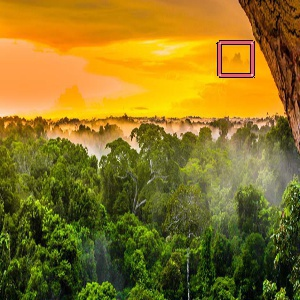square: (216, 40, 256, 79)
